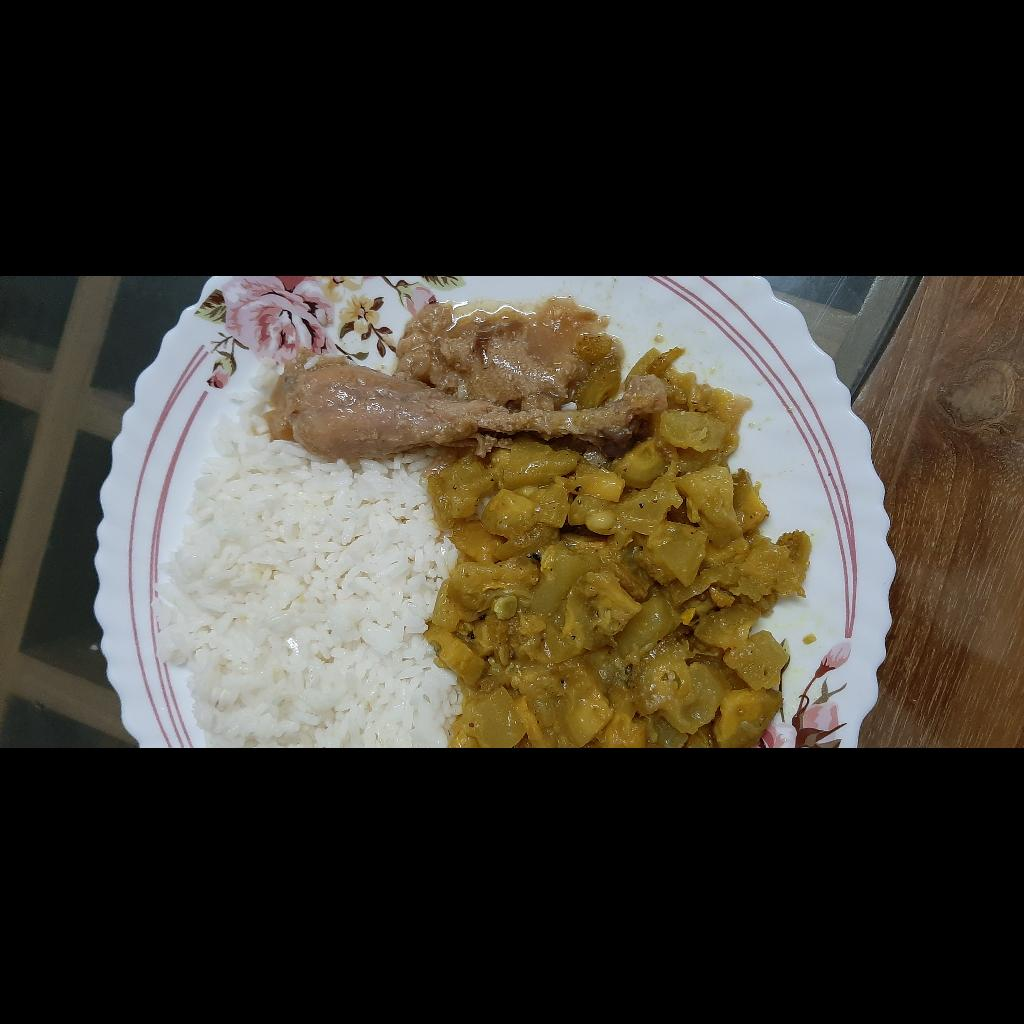chicken: (286, 537, 453, 946)
kumra-vaji: (0, 697, 399, 1024)
rice: (0, 429, 413, 737)
